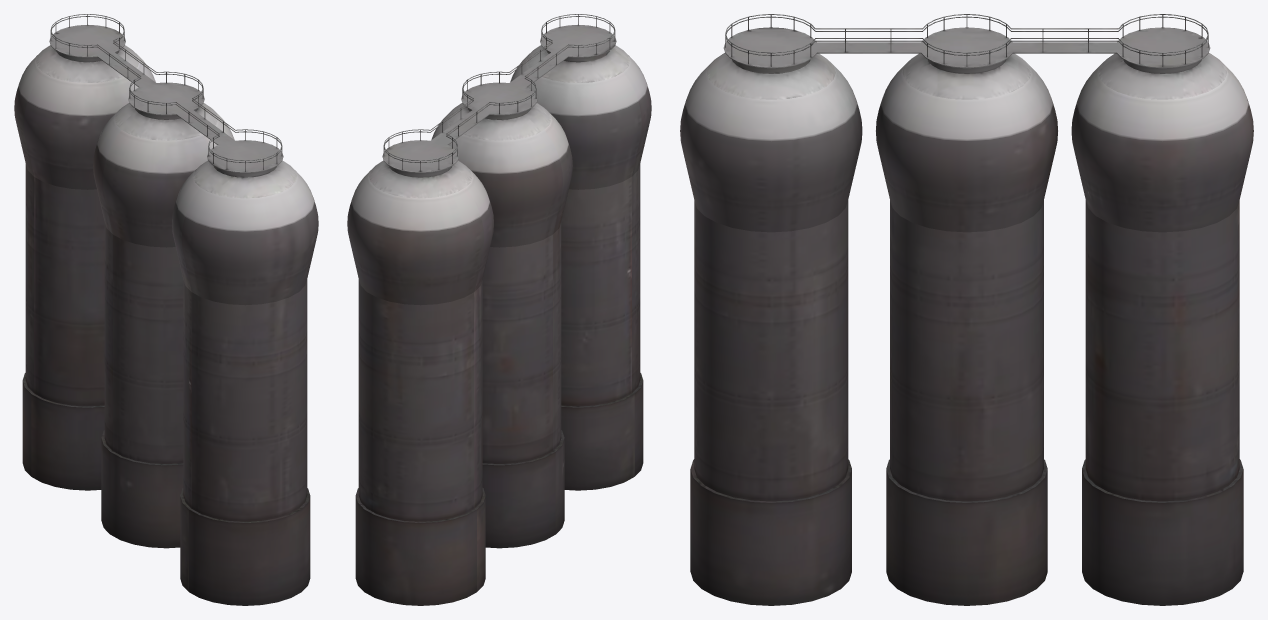
The picture shows the model from 3 angles, left to right: view 1: azimuth 30°, elevation 25°; view 2: azimuth 150°, elevation 25°; view 3: azimuth 270°, elevation 25°; orthographic projection. The views are drawn at different scales.
Visible parts, largest first — view 1: body0_model0_lod0_mesh0; view 2: body0_model0_lod0_mesh0; view 3: body0_model0_lod0_mesh0.
Part boxes in pixels (x1,y1,x2,y2): body0_model0_lod0_mesh0: (14, 14, 318, 605); body0_model0_lod0_mesh0: (347, 14, 651, 605); body0_model0_lod0_mesh0: (680, 14, 1253, 605).
Bounding box in the file's own units: 384 × 1251 × 1208.
Materials: 1 (1 with a texture image).
